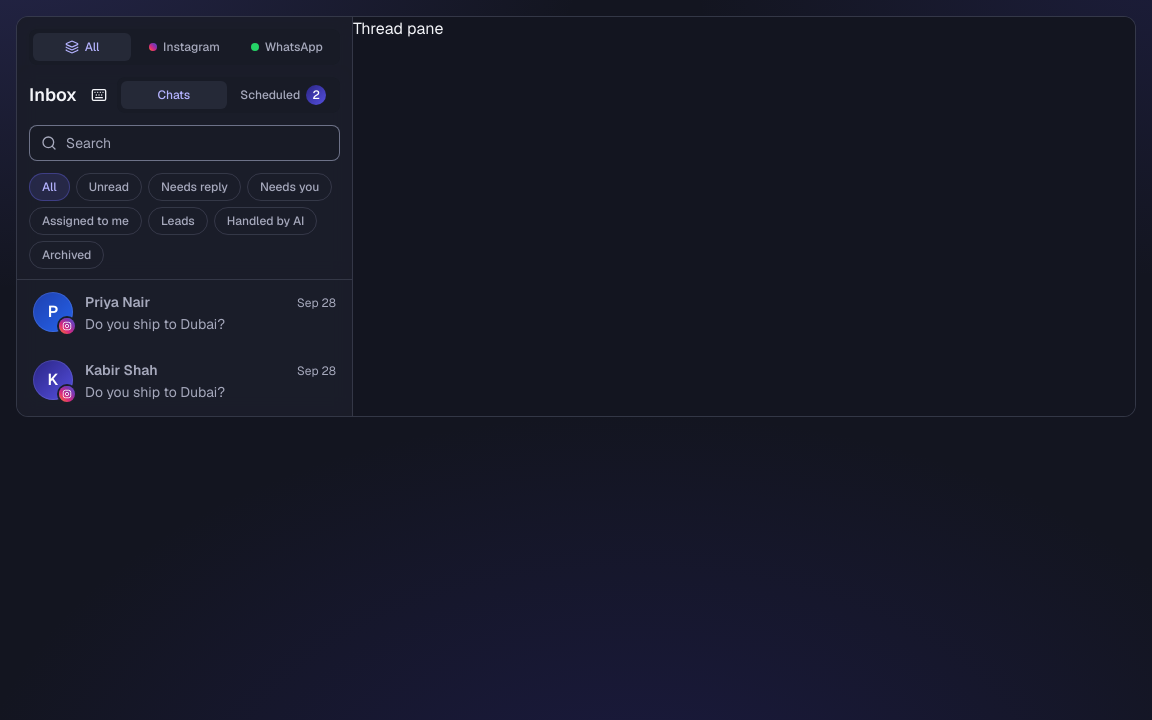
it: InboxShell list states (§4.7) › the Scheduled tab shows only the chosen platform's messages, with its count
The width and height of the screenshot is (1152, 720).
expect the text "Kabir Shah" is shown: met, box [85,361,158,379]
expect the tab with aria-label "Scheduled, 2 to send" is shown: met, box [231,81,336,109]
Click the radio button labelled "WhatsApp" at {"x": 287, "y": 47}, box [238,33,336,61]
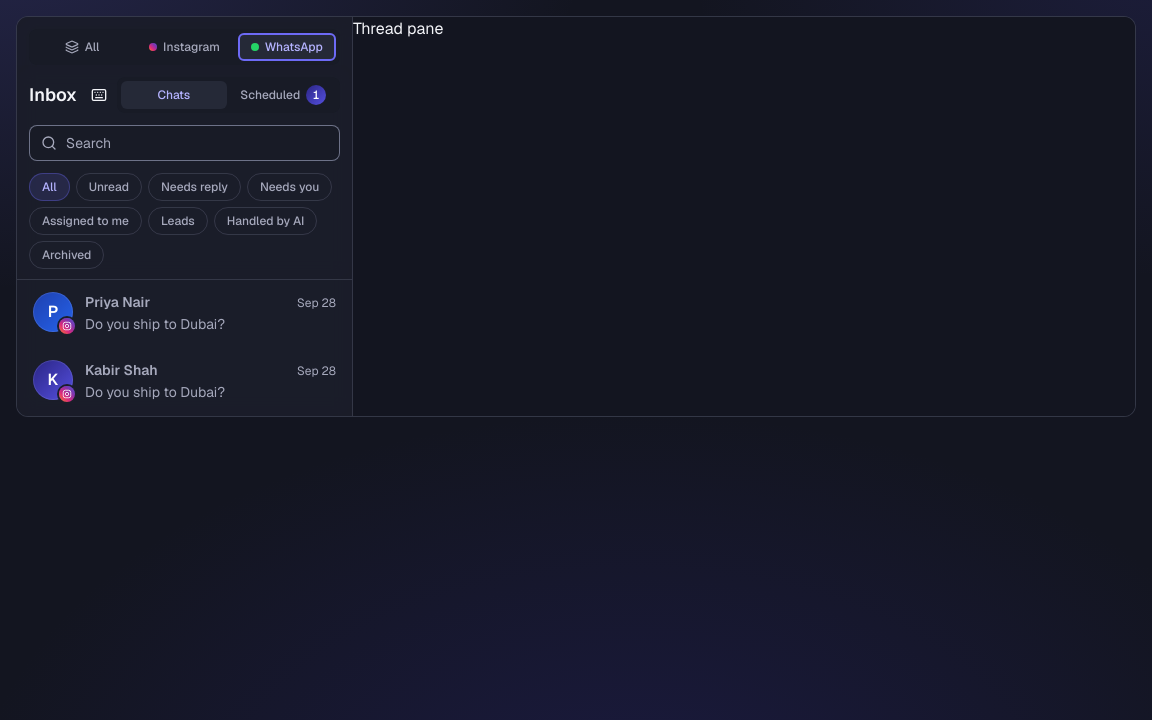
Click the tab with aria-label "Scheduled, 1 to send" at {"x": 283, "y": 95}, box [231,81,336,109]
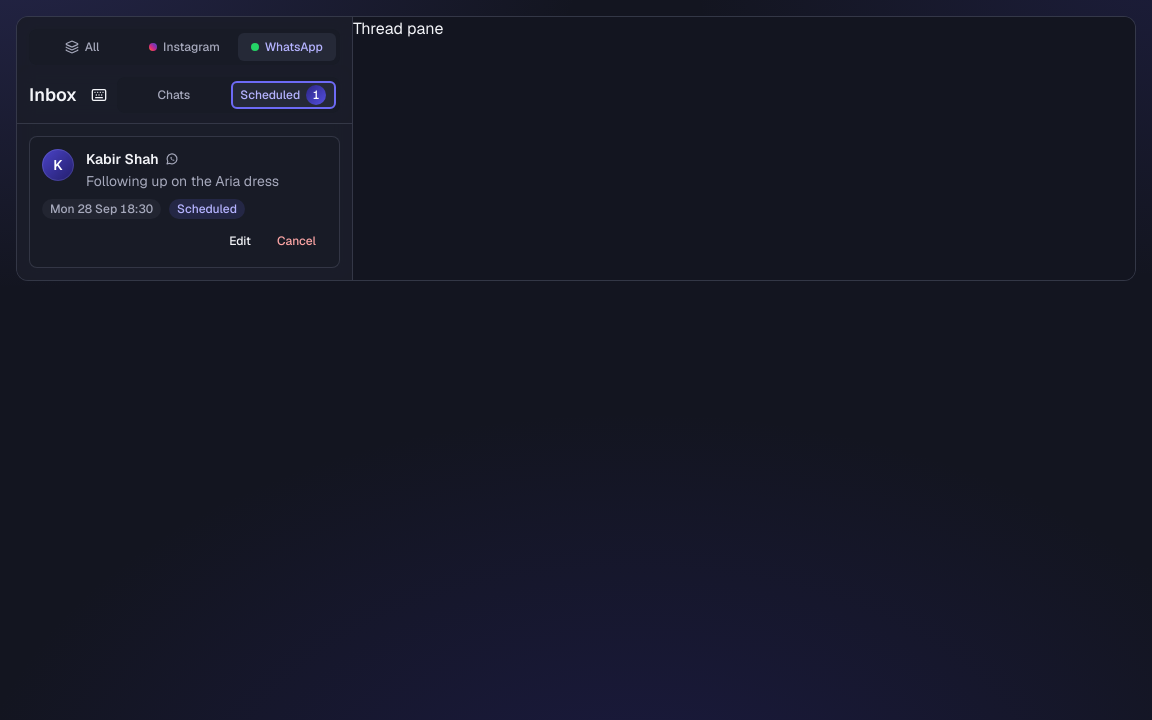
expect the text "Kabir Shah" is shown: met, box [86,149,159,169]
expect the number of list items is 1: met, box [29,136,340,268]
